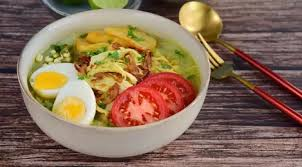soto: (21, 5, 208, 140)
